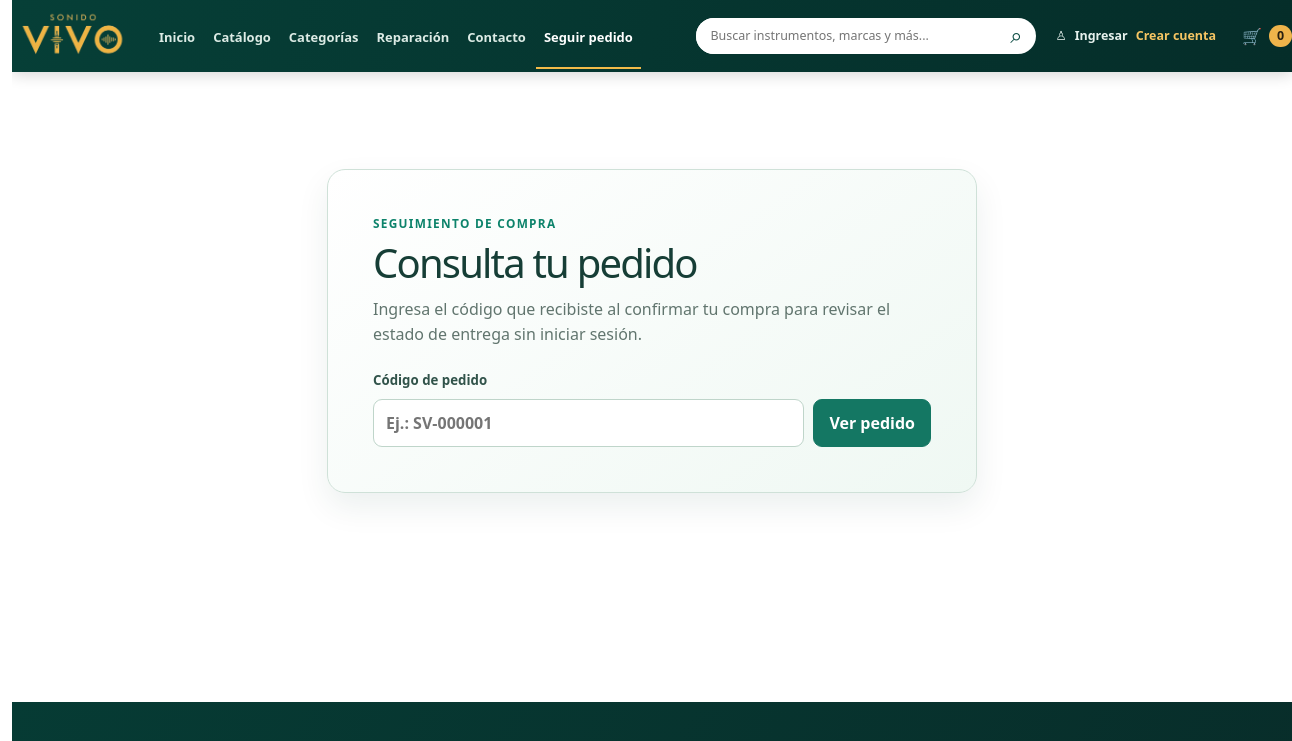
accesos de seguimiento para clientes › permite consultar un pedido por código sin iniciar sesión
The image size is (1292, 741).
Type "sv-000001" into the field labelled "Código de pedido" at x=589, y=423, box left=373, top=399, right=804, bottom=447
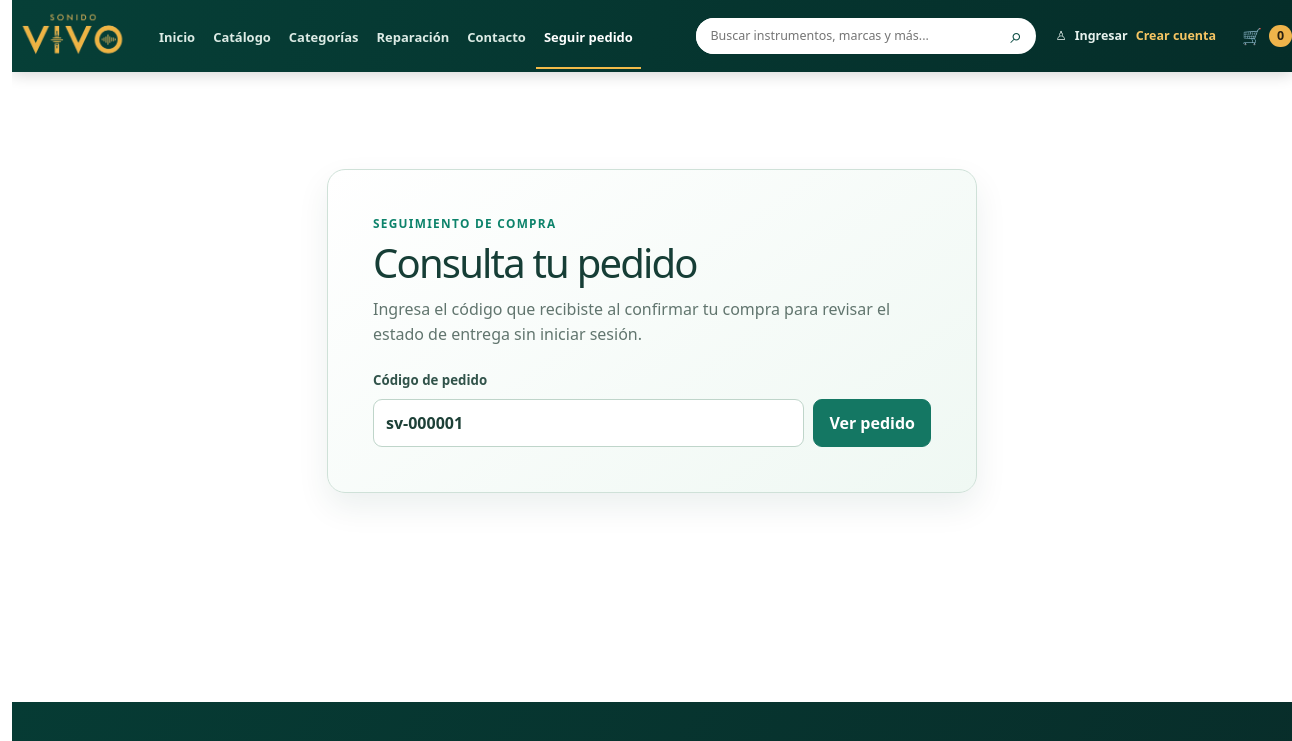
Click the button "Ver pedido" at x=872, y=423, box left=813, top=399, right=931, bottom=447
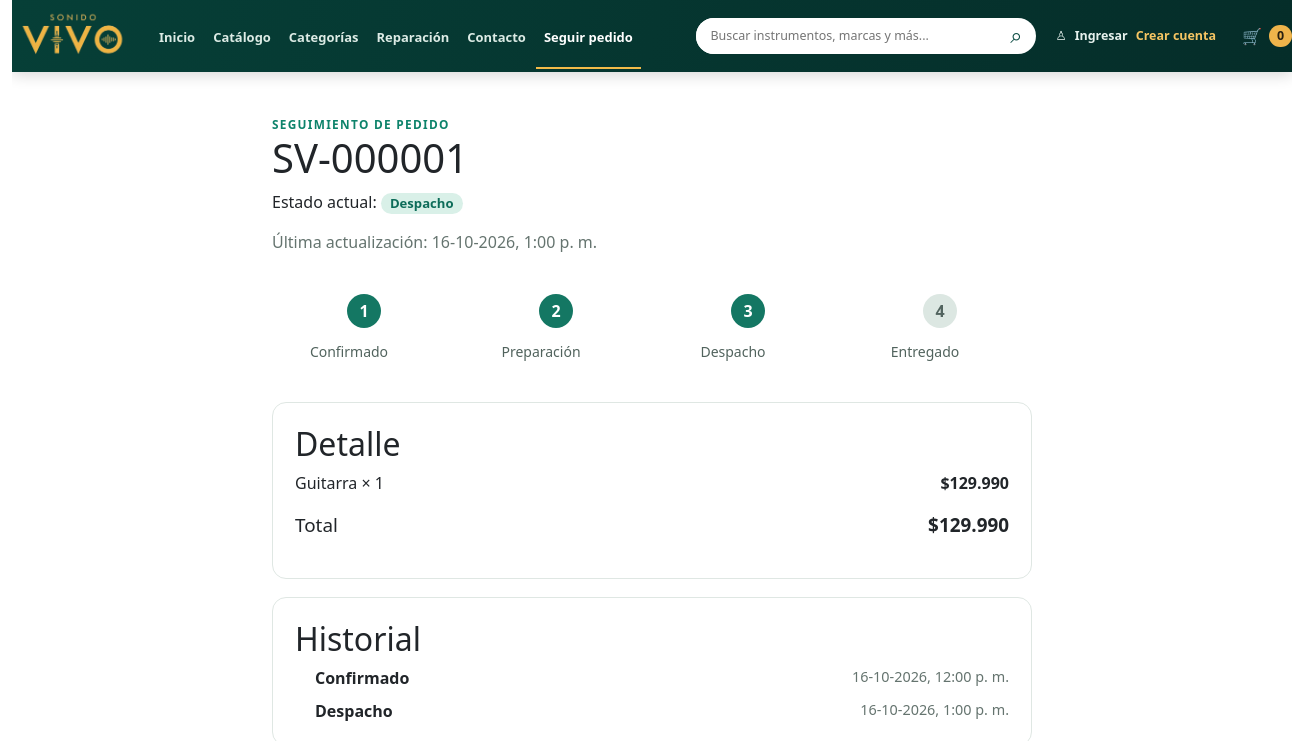
Expected: the heading "SV-000001" is shown, left=272, top=130, right=468, bottom=185
Expected: the text "Despacho" next to "Estado actual:" is shown, left=390, top=194, right=454, bottom=212
